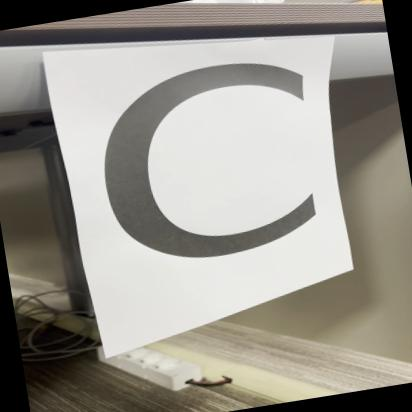seat: (63, 14, 358, 322)
